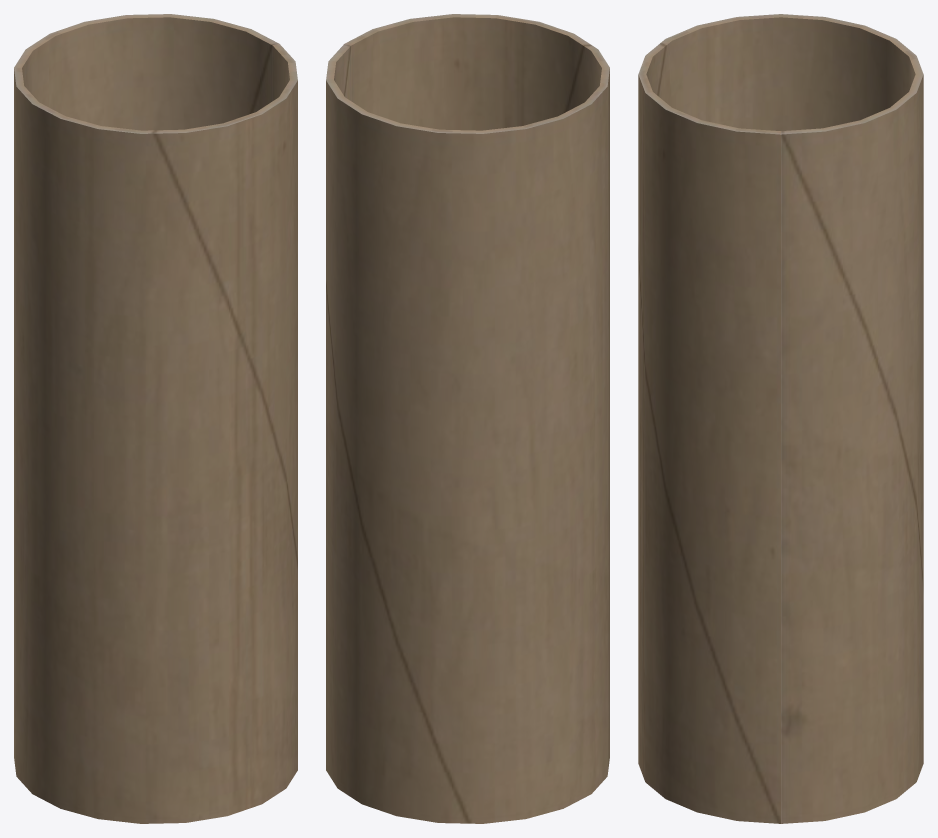
Rendered from SM_Toilet_Roll_02.glb.
The picture shows the model from 3 angles, left to right: view 1: azimuth 30°, elevation 25°; view 2: azimuth 150°, elevation 25°; view 3: azimuth 270°, elevation 25°; orthographic projection.
Parts seen in each view (by area): view 1: SM_Toilet_Roll_02; view 2: SM_Toilet_Roll_02; view 3: SM_Toilet_Roll_02.
Part boxes in pixels (box(x1,y1,x2,y2)): SM_Toilet_Roll_02: box(14, 14, 297, 823); SM_Toilet_Roll_02: box(326, 14, 609, 823); SM_Toilet_Roll_02: box(638, 14, 923, 823).
Size of the model in its own units: 0.0607 by 0.1618 by 0.0607.
1 material, 1 textured.
